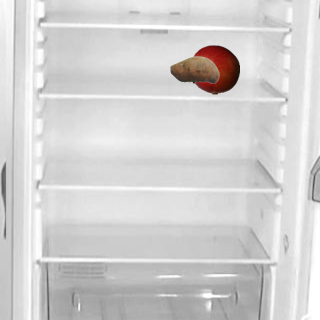Apple Braeburn: (189, 44, 239, 94)
Potato Sweet: (169, 44, 219, 94)
